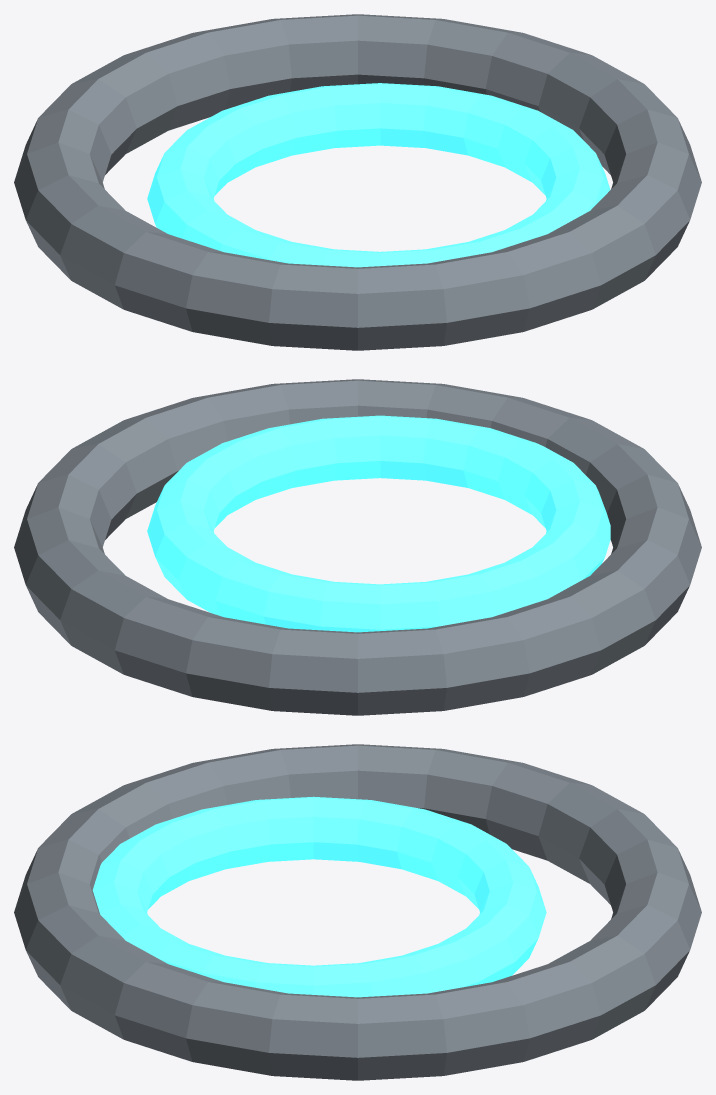
File: synthetic_eye.glb
3 views of the same model, one above another, from view 1: azimuth 30°, elevation 25°; view 2: azimuth 150°, elevation 25°; view 3: azimuth 270°, elevation 25° (orthographic).
Parts seen in each view (by area): view 1: part_000, part_001; view 2: part_000, part_001; view 3: part_000, part_001.
Boxes of the visible parts, <box> form: part_000: <box>14,14,701,350</box>; part_001: <box>147,83,610,267</box>; part_000: <box>14,379,701,715</box>; part_001: <box>147,415,610,632</box>; part_000: <box>14,744,701,1080</box>; part_001: <box>92,796,546,997</box>.
Bounding box in the file's own units: 0.062 × 0.008 × 0.062.
